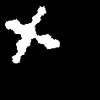single_crochet: (5, 7, 59, 62)
